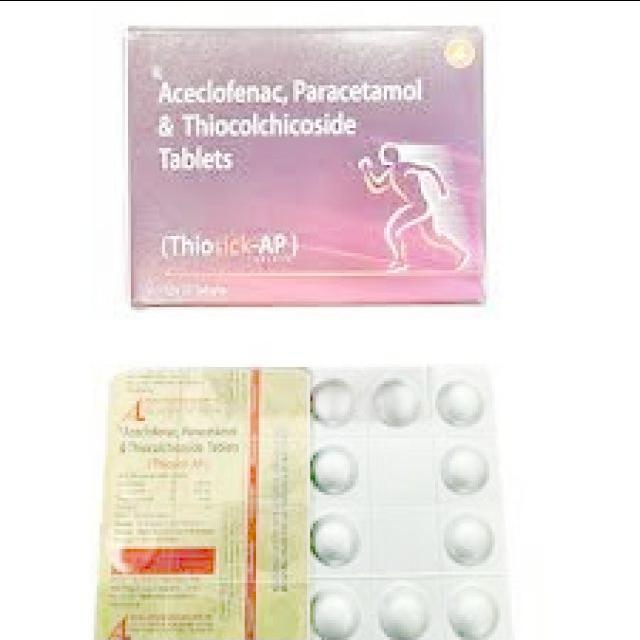authentic: (105, 16, 513, 326), (90, 348, 313, 640), (307, 355, 526, 640)
